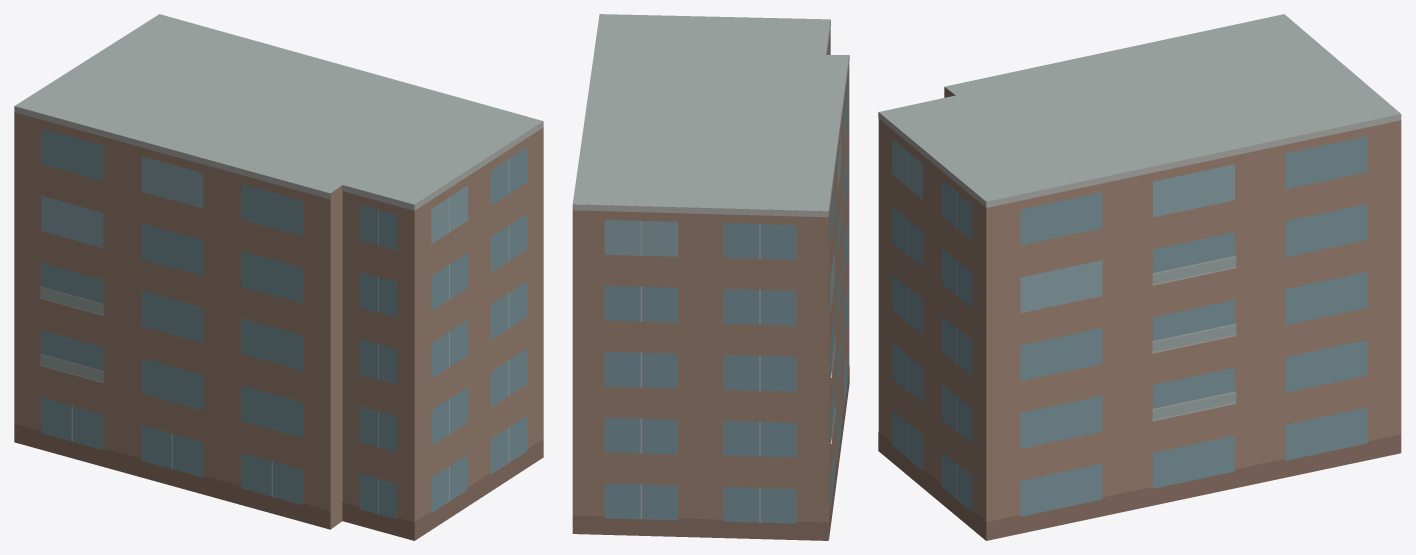
File: survey-upis-32707263.glb
The picture shows the model from 3 angles, left to right: view 1: azimuth 30°, elevation 25°; view 2: azimuth 150°, elevation 25°; view 3: azimuth 270°, elevation 25°; orthographic projection. The views are drawn at different scales.
Parts seen in each view (by area): view 1: survey-upis-32707263.tmp; view 2: survey-upis-32707263.tmp; view 3: survey-upis-32707263.tmp.
Part boxes in pixels (bbox=[...]): survey-upis-32707263.tmp: bbox=[14, 14, 543, 540]; survey-upis-32707263.tmp: bbox=[572, 14, 849, 540]; survey-upis-32707263.tmp: bbox=[878, 14, 1401, 540].
Size of the model in its own units: 15.92 by 13.4 by 18.73.
